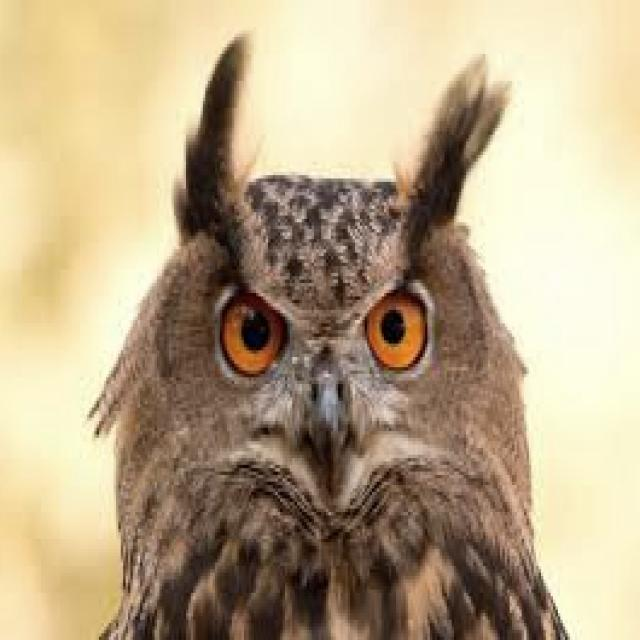owl: (92, 34, 568, 637)
